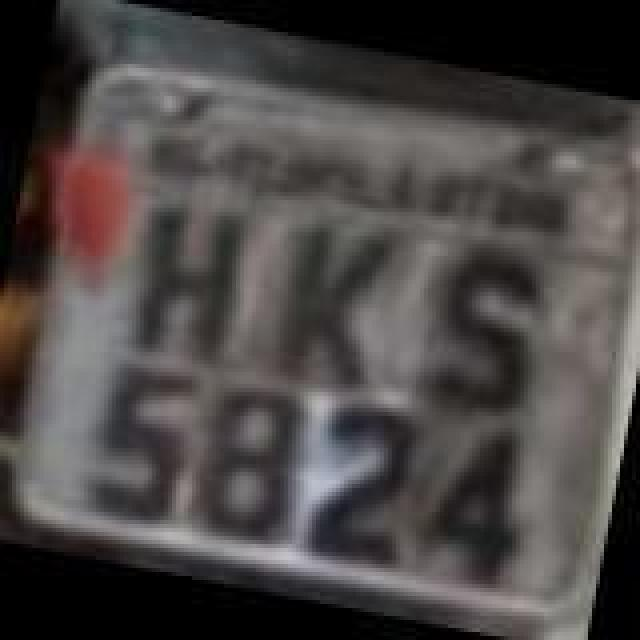2: (300, 390, 428, 570)
4: (414, 416, 546, 592)
5: (80, 366, 208, 530)
8: (182, 376, 314, 552)
H: (118, 188, 250, 372)
K: (258, 220, 398, 404)
S: (418, 250, 550, 422)
